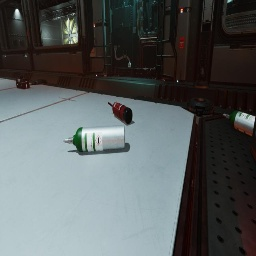0: (63, 125, 125, 152), (223, 110, 256, 136)
FireAlarm ,: (179, 37, 185, 49), (27, 30, 29, 36)
FireExtinguisher ]: (108, 102, 132, 124)
FirstAidBox ,: (16, 75, 30, 89)
SafetySwitchPanel ,: (90, 29, 97, 57)
